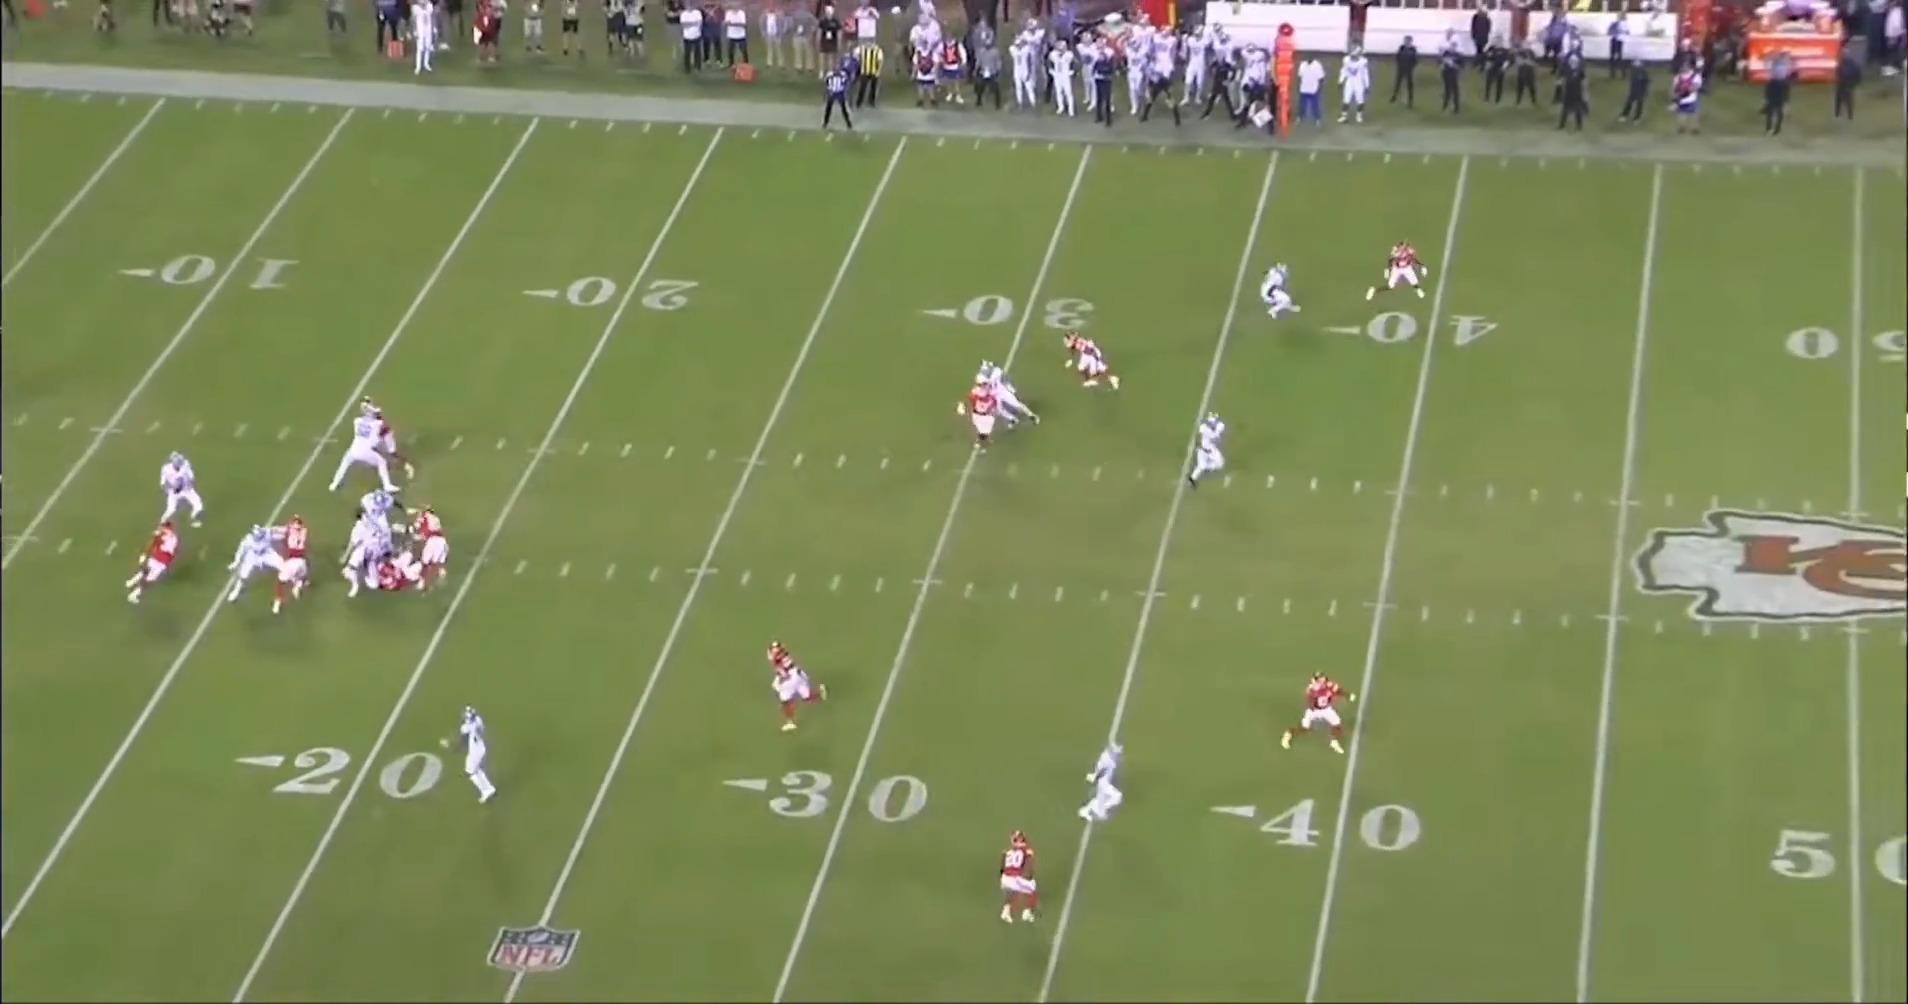player: (1274, 668, 1353, 761), (319, 413, 394, 496), (766, 642, 832, 735), (222, 519, 287, 609), (1075, 741, 1134, 831), (975, 360, 1042, 436), (130, 521, 189, 606), (453, 704, 502, 806), (989, 831, 1038, 932), (359, 395, 417, 480), (1058, 327, 1123, 395), (1372, 240, 1436, 308), (1181, 408, 1234, 489), (268, 510, 312, 606), (152, 453, 204, 533), (410, 507, 454, 598), (342, 530, 392, 601), (965, 382, 1005, 459), (357, 483, 410, 540), (1256, 258, 1303, 320), (378, 545, 427, 593)
ref: (820, 60, 861, 133)
